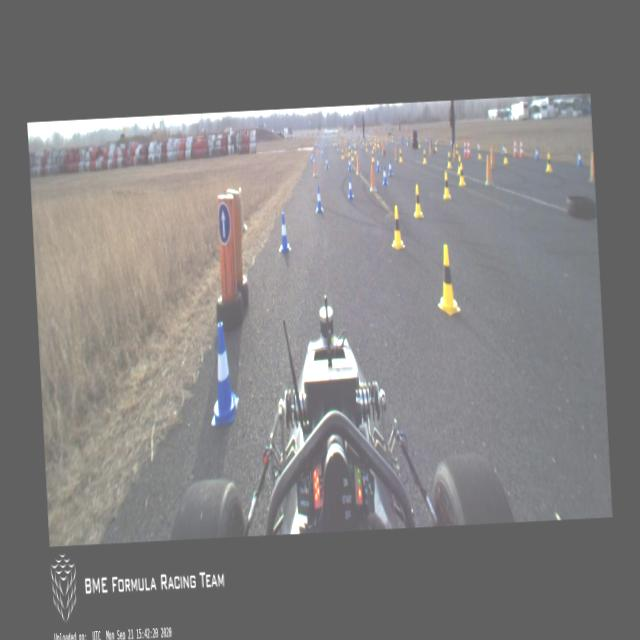blue_cone: (206, 322, 240, 426), (278, 212, 292, 253), (314, 186, 324, 213), (382, 166, 388, 185), (348, 176, 353, 198), (534, 147, 540, 161), (577, 150, 582, 166), (388, 159, 392, 177), (376, 156, 380, 172), (325, 156, 329, 169), (348, 158, 352, 171), (502, 143, 505, 155), (310, 154, 312, 163), (322, 148, 324, 156), (337, 146, 339, 154), (426, 137, 428, 145), (319, 138, 321, 146), (351, 142, 353, 149), (450, 140, 452, 147), (436, 139, 438, 145), (316, 142, 318, 148), (477, 142, 479, 148), (322, 140, 324, 145), (405, 136, 407, 140), (330, 138, 331, 144), (350, 142, 350, 148), (326, 143, 326, 149), (396, 136, 396, 144)
large_orange_cone: (466, 138, 472, 158), (462, 138, 468, 158), (519, 136, 524, 158), (514, 138, 518, 157)
unknown_cone: (484, 154, 495, 186), (368, 163, 376, 192), (588, 150, 595, 182), (356, 154, 362, 176), (490, 148, 496, 168), (312, 158, 318, 177), (394, 146, 398, 162), (428, 142, 432, 156), (344, 146, 348, 159), (453, 144, 456, 160), (374, 140, 378, 152), (380, 134, 383, 145), (389, 134, 392, 143), (382, 142, 384, 155), (386, 134, 388, 145), (402, 137, 404, 146), (317, 147, 319, 156), (408, 137, 410, 145), (340, 143, 342, 151)
yellow_cone: (436, 244, 460, 317), (390, 205, 406, 250), (412, 182, 423, 218), (442, 170, 450, 198), (458, 163, 466, 186), (545, 152, 552, 172), (456, 156, 463, 176), (447, 150, 452, 168), (422, 149, 427, 165), (504, 149, 508, 164), (398, 148, 402, 162), (478, 146, 482, 159), (371, 150, 375, 162), (456, 144, 459, 155), (434, 142, 438, 150), (351, 150, 354, 160), (365, 142, 368, 152), (369, 136, 372, 146), (418, 139, 421, 147), (378, 138, 380, 148), (338, 138, 341, 144), (342, 150, 344, 158), (354, 146, 356, 154), (348, 147, 350, 155), (373, 142, 375, 150), (354, 138, 356, 146), (397, 136, 399, 144), (375, 138, 377, 146), (344, 139, 346, 146), (362, 139, 364, 145), (336, 140, 338, 146), (360, 136, 362, 142), (332, 139, 334, 145), (334, 138, 336, 144), (368, 135, 369, 141)
